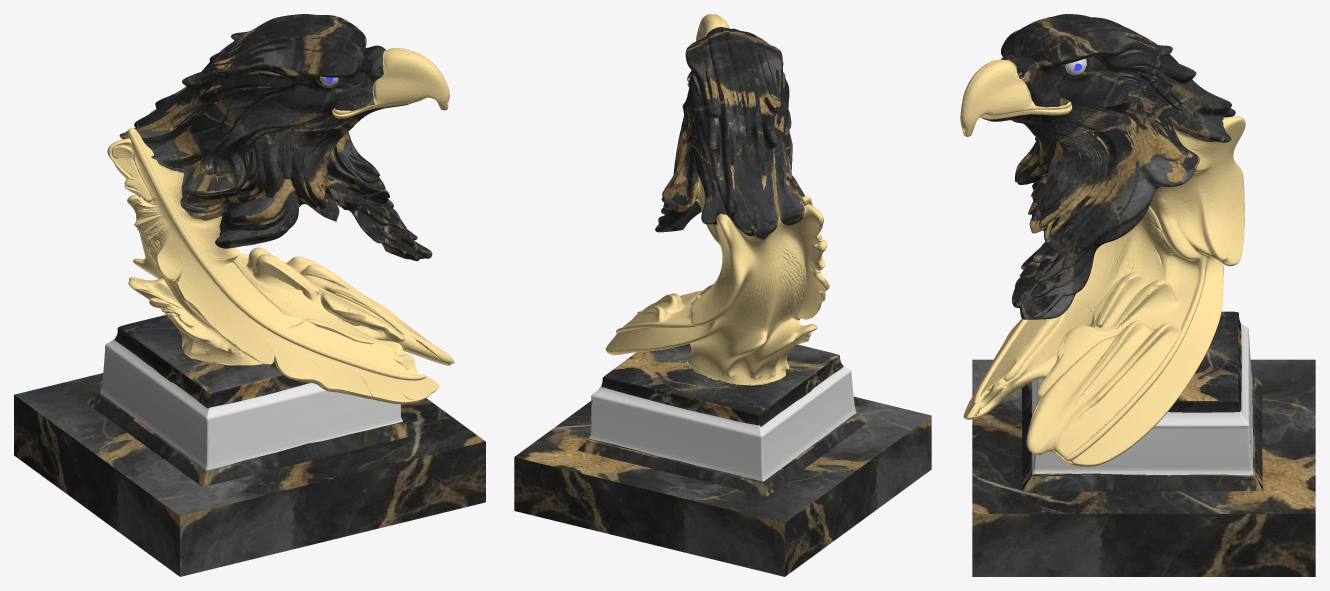
File: marcador.glb
3 views of the same model, side by side, from view 1: azimuth 30°, elevation 25°; view 2: azimuth 150°, elevation 25°; view 3: azimuth 270°, elevation 25° (orthographic). The views are drawn at different scales.
Visible parts, largest first — view 1: Cube.001; view 2: Cube.001; view 3: Cube.001.
Part boxes in pixels (left/top/right/bottom): Cube.001: left=14, top=14, right=485, bottom=576; Cube.001: left=514, top=14, right=931, bottom=576; Cube.001: left=960, top=14, right=1315, bottom=576.
Size of the model in its own units: 0.8155 by 1.2 by 0.7874.
4 materials, 1 textured.
